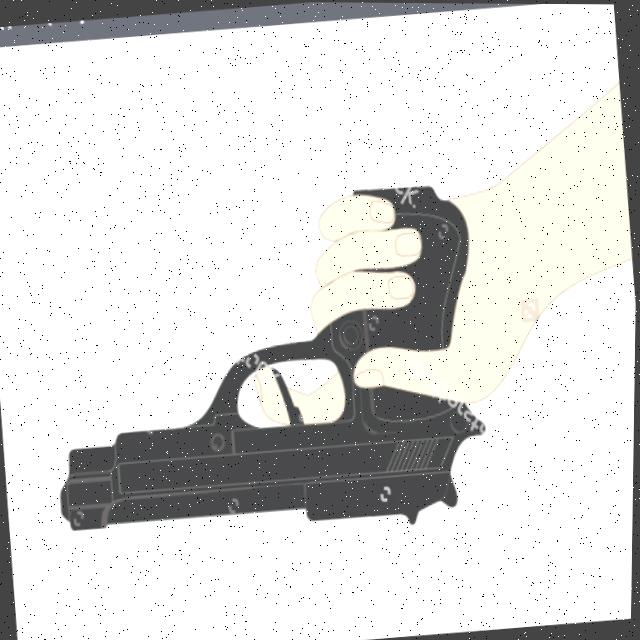pistol: (37, 177, 495, 556)
